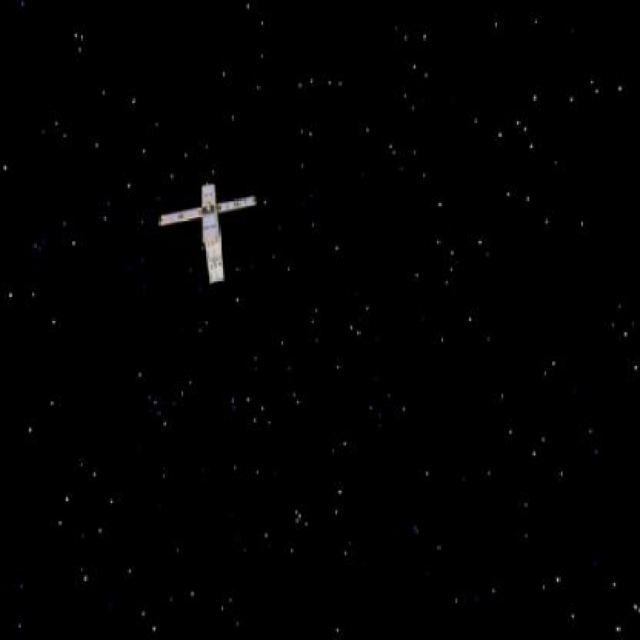satellite: (146, 179, 281, 283)
